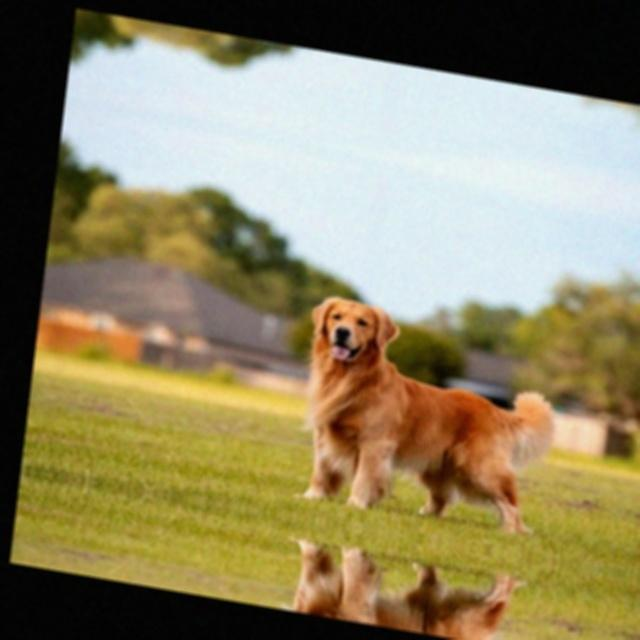dog: (281, 278, 574, 542), (267, 533, 544, 640)
